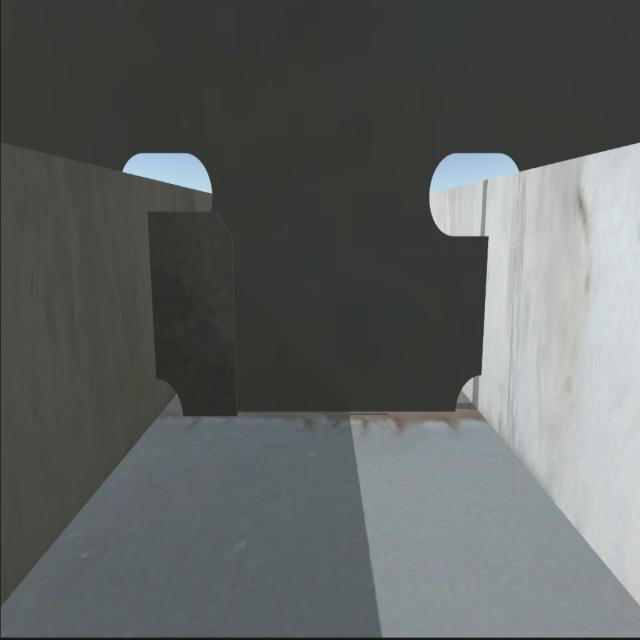fillet_hole: (153, 376, 189, 422), (451, 369, 484, 412)
fillet_yong_jeop_jang: (188, 409, 457, 419)
longi_yong_jeop_jang: (144, 210, 162, 378), (480, 236, 490, 372)
plate_CP03: (154, 207, 238, 416)
